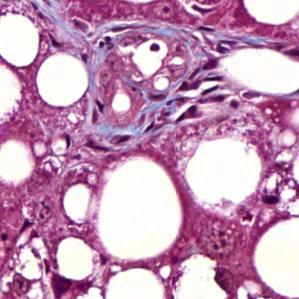steatosis: (38, 48, 93, 110)
